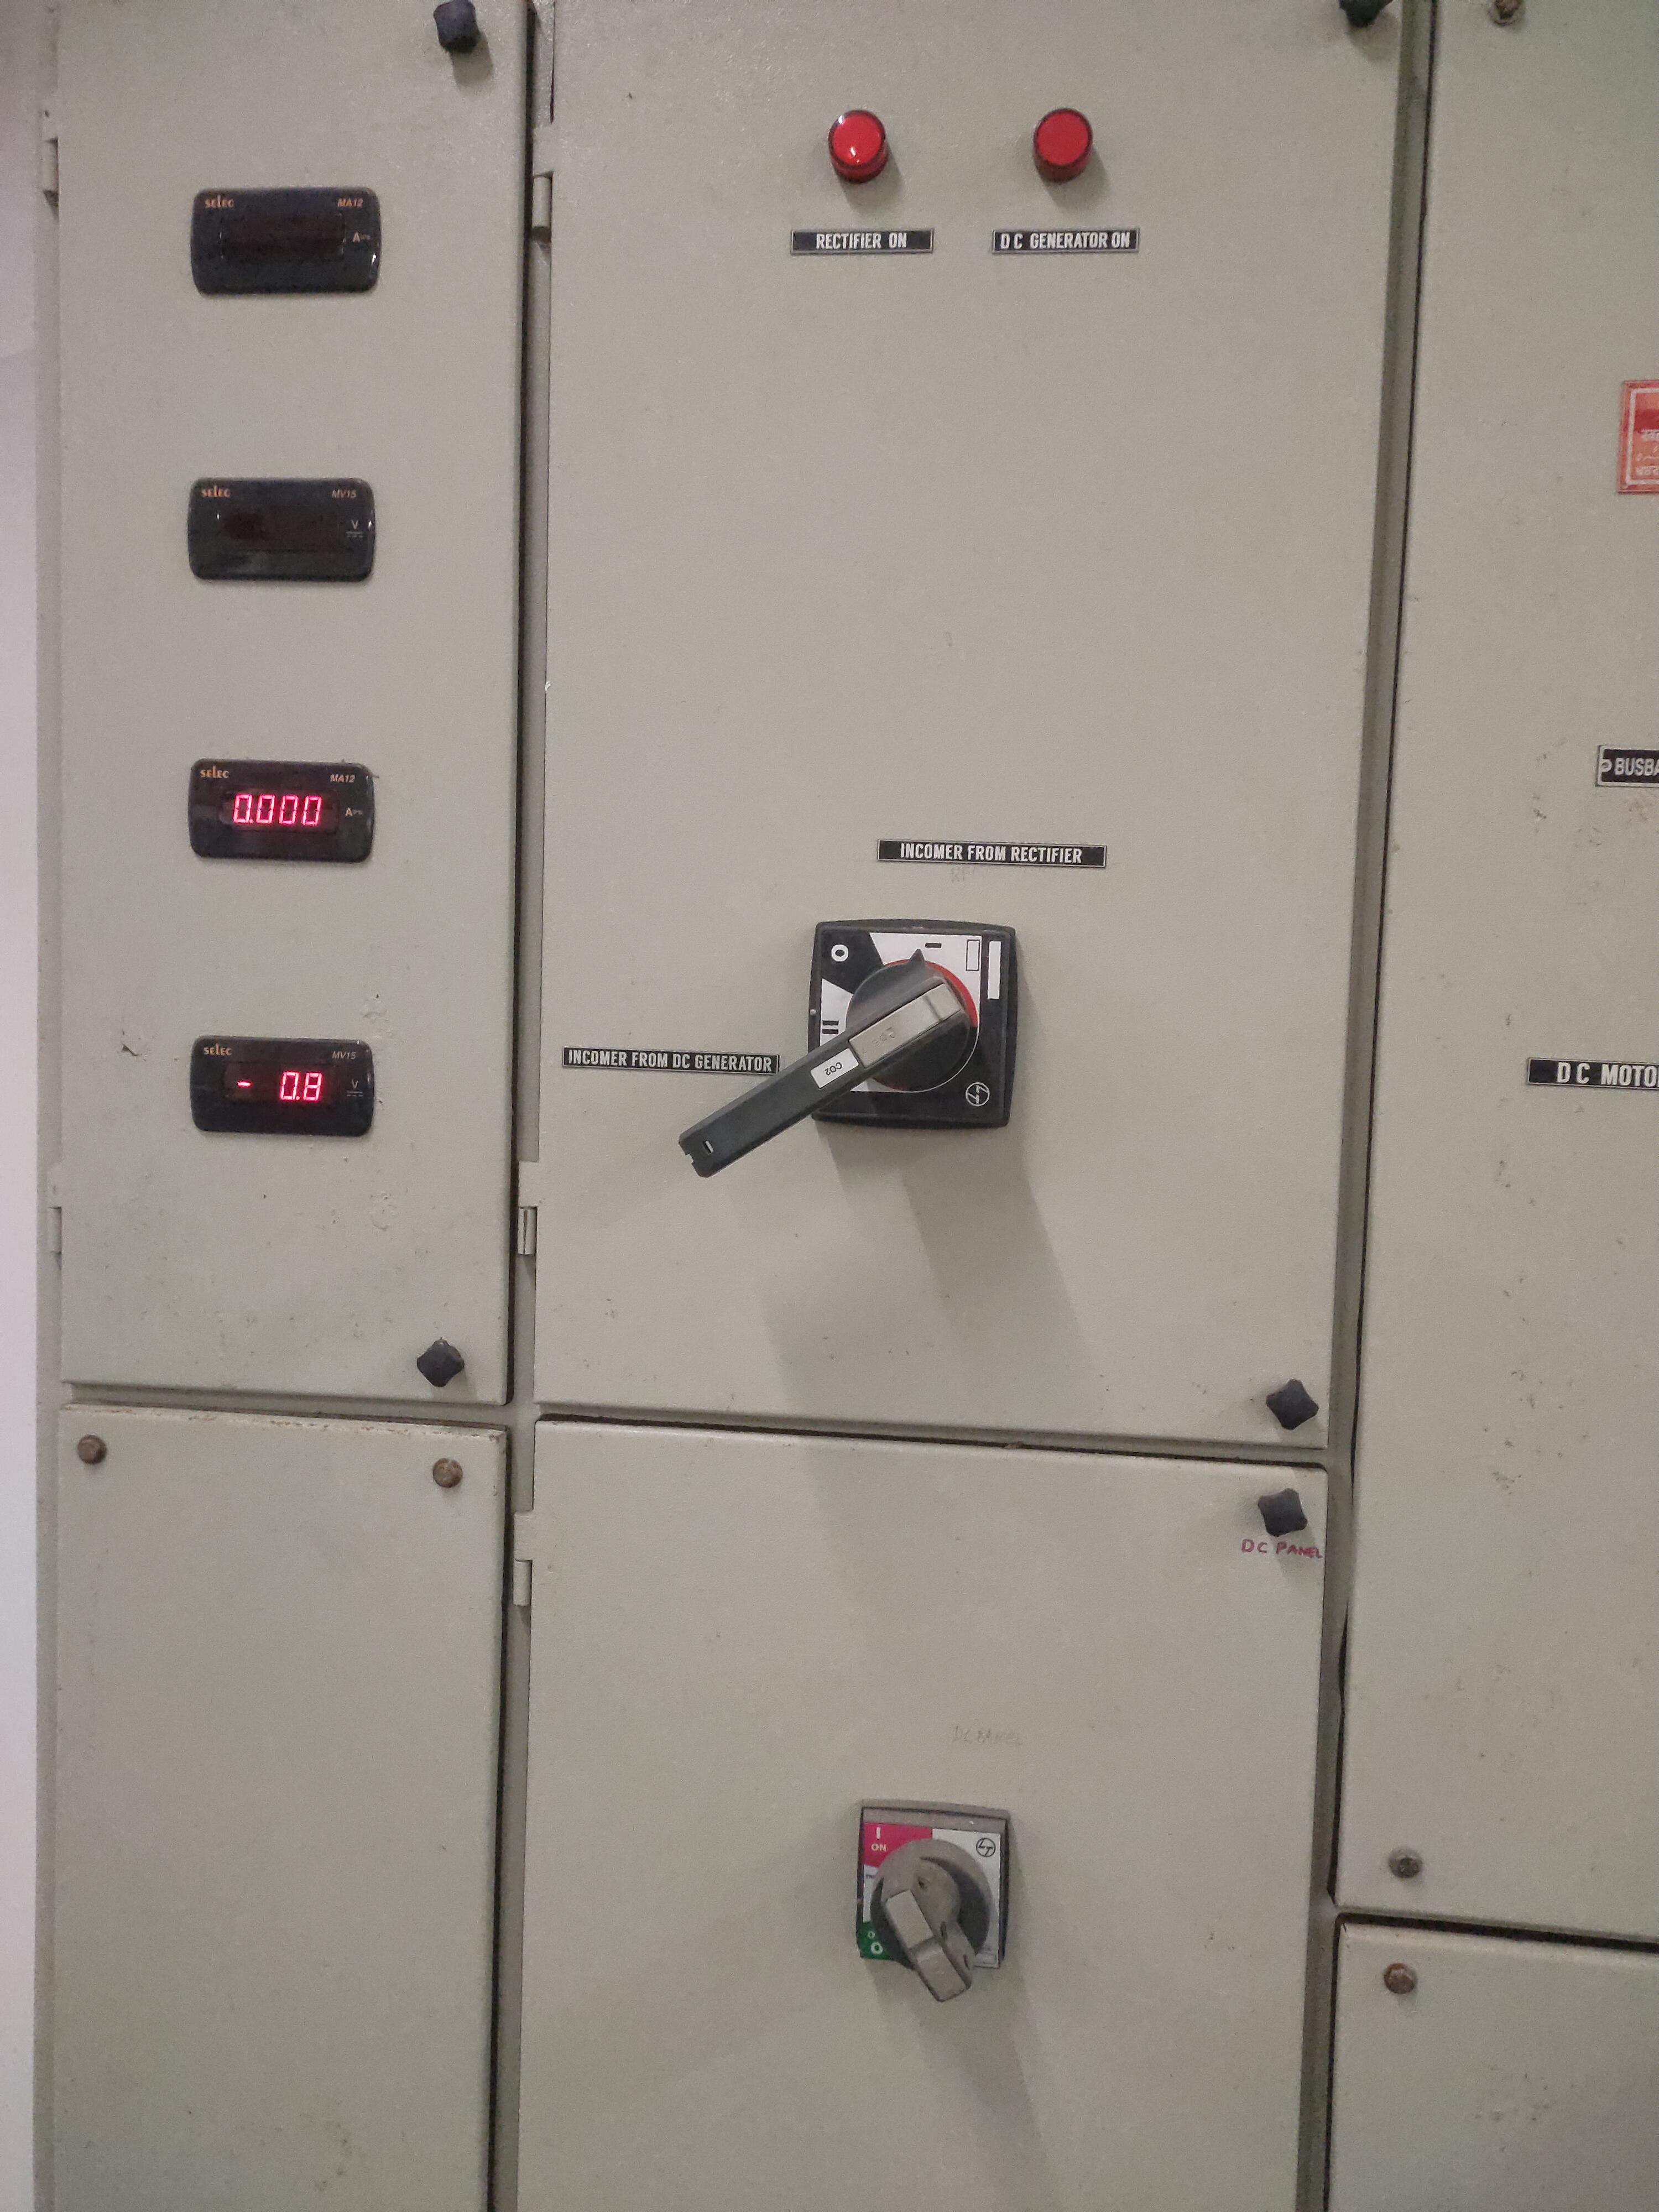Knob 1: (648, 881, 1046, 1247)
Knob 2: (812, 1754, 1028, 2008)
Light Indications: (786, 78, 1173, 314)
